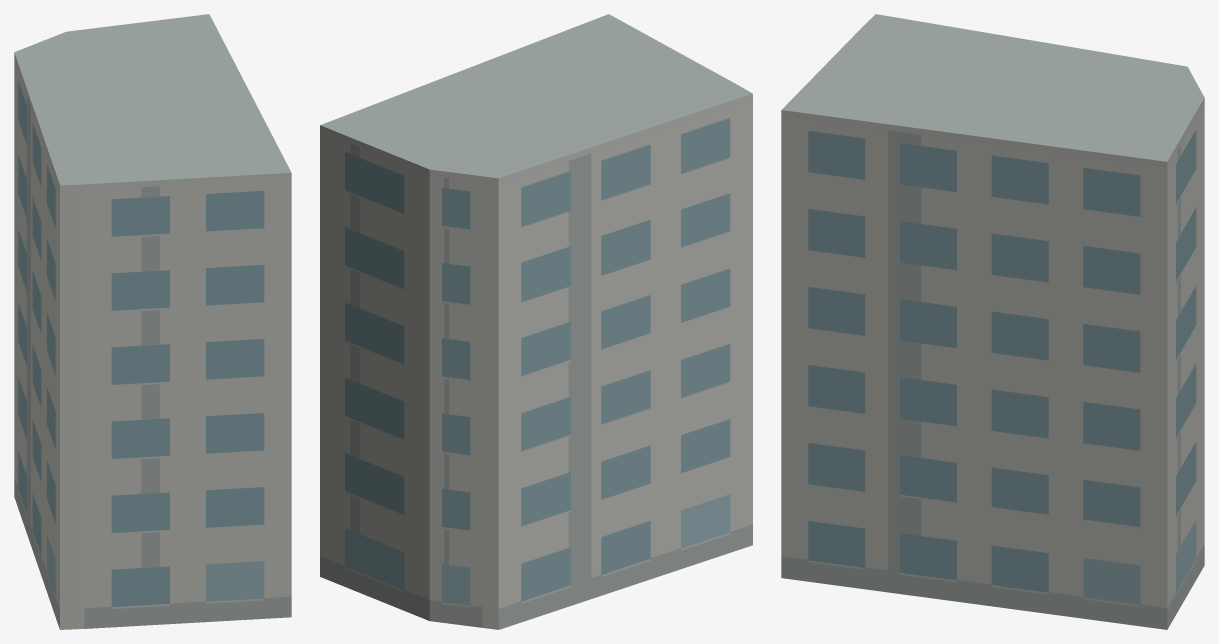
Rendered from survey-upis-32779446.glb.
3 views of the same model, side by side, from view 1: azimuth 30°, elevation 25°; view 2: azimuth 150°, elevation 25°; view 3: azimuth 270°, elevation 25° (orthographic). The views are drawn at different scales.
Parts seen in each view (by area): view 1: survey-upis-32779446.tmp; view 2: survey-upis-32779446.tmp; view 3: survey-upis-32779446.tmp.
Part boxes in pixels (x1,y1,x2,y2): survey-upis-32779446.tmp: (14, 14, 291, 629); survey-upis-32779446.tmp: (320, 14, 752, 629); survey-upis-32779446.tmp: (781, 14, 1204, 629).
Size of the model in its own units: 12.2 by 18 by 14.76.
